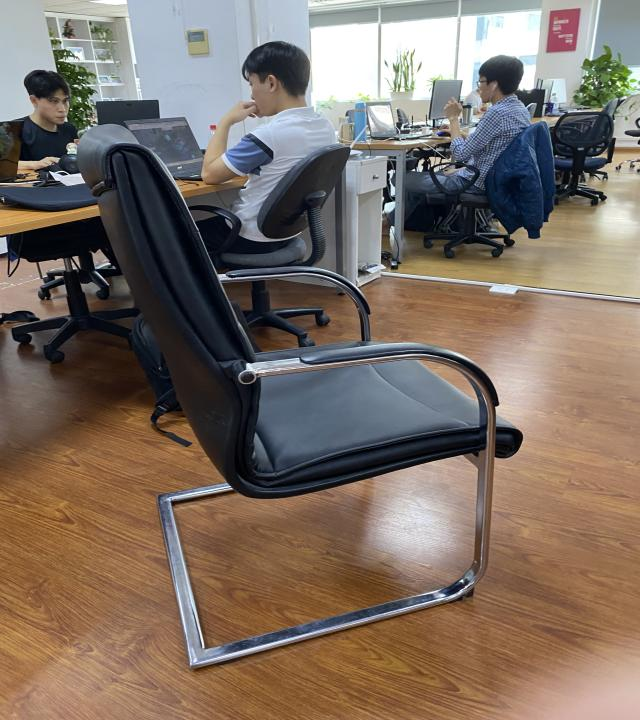SS_03: (71, 118, 526, 675)
